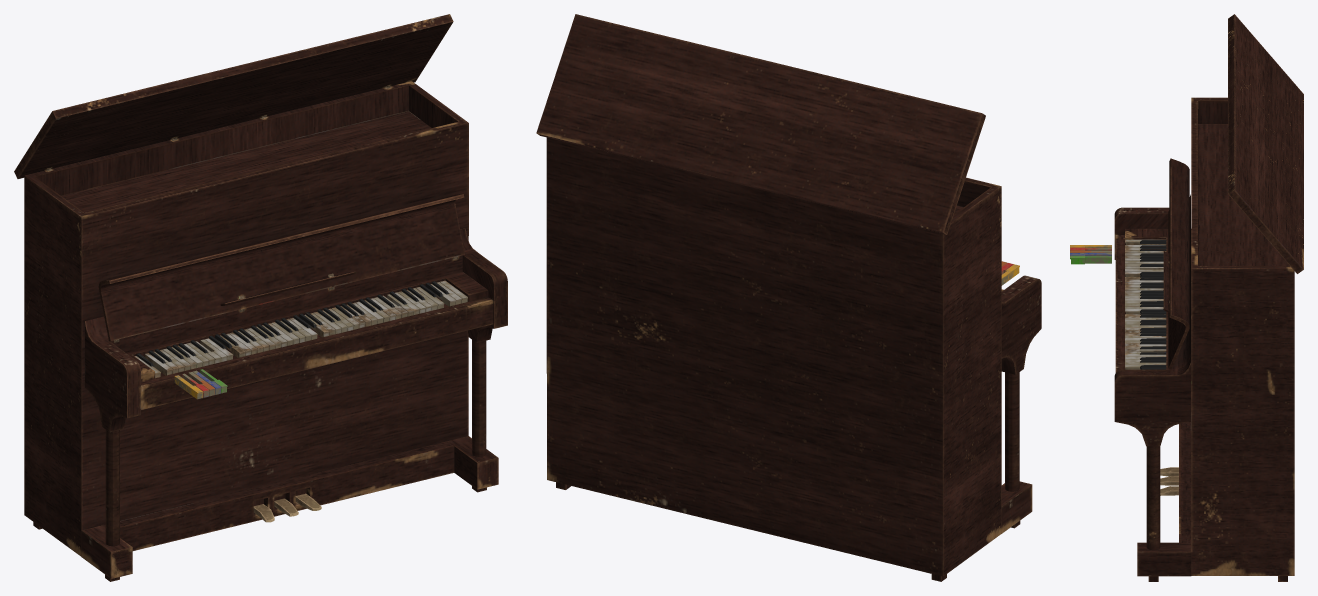
The model's file is Puzzle_CompactWoodPiano_HA.fbx.
3 views of the same model, side by side, from view 1: azimuth 30°, elevation 25°; view 2: azimuth 150°, elevation 25°; view 3: azimuth 270°, elevation 25° (orthographic). The views are drawn at different scales.
Parts seen in each view (by area): view 1: Piano, Hatch; view 2: Piano, Hatch; view 3: Piano, Hatch, Green Puzzle Key.
Boxes of the visible parts, left/top/right/bottom form: Piano: left=24, top=81, right=507, bottom=581; Hatch: left=14, top=14, right=453, bottom=178; Piano: left=546, top=137, right=1041, bottom=581; Hatch: left=536, top=14, right=985, bottom=234; Piano: left=1114, top=97, right=1294, bottom=581; Hatch: left=1228, top=14, right=1303, bottom=273; Green Puzzle Key: left=1070, top=255, right=1111, bottom=264.
Size of the model in its own units: 163 by 171 by 91.41.
